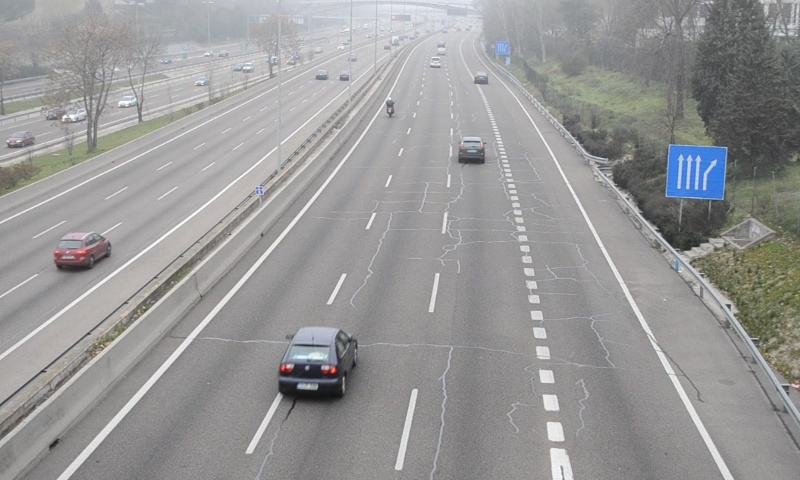car: (277, 326, 358, 398), (458, 136, 484, 163), (474, 72, 488, 84)
motorcycle: (385, 96, 396, 119)
